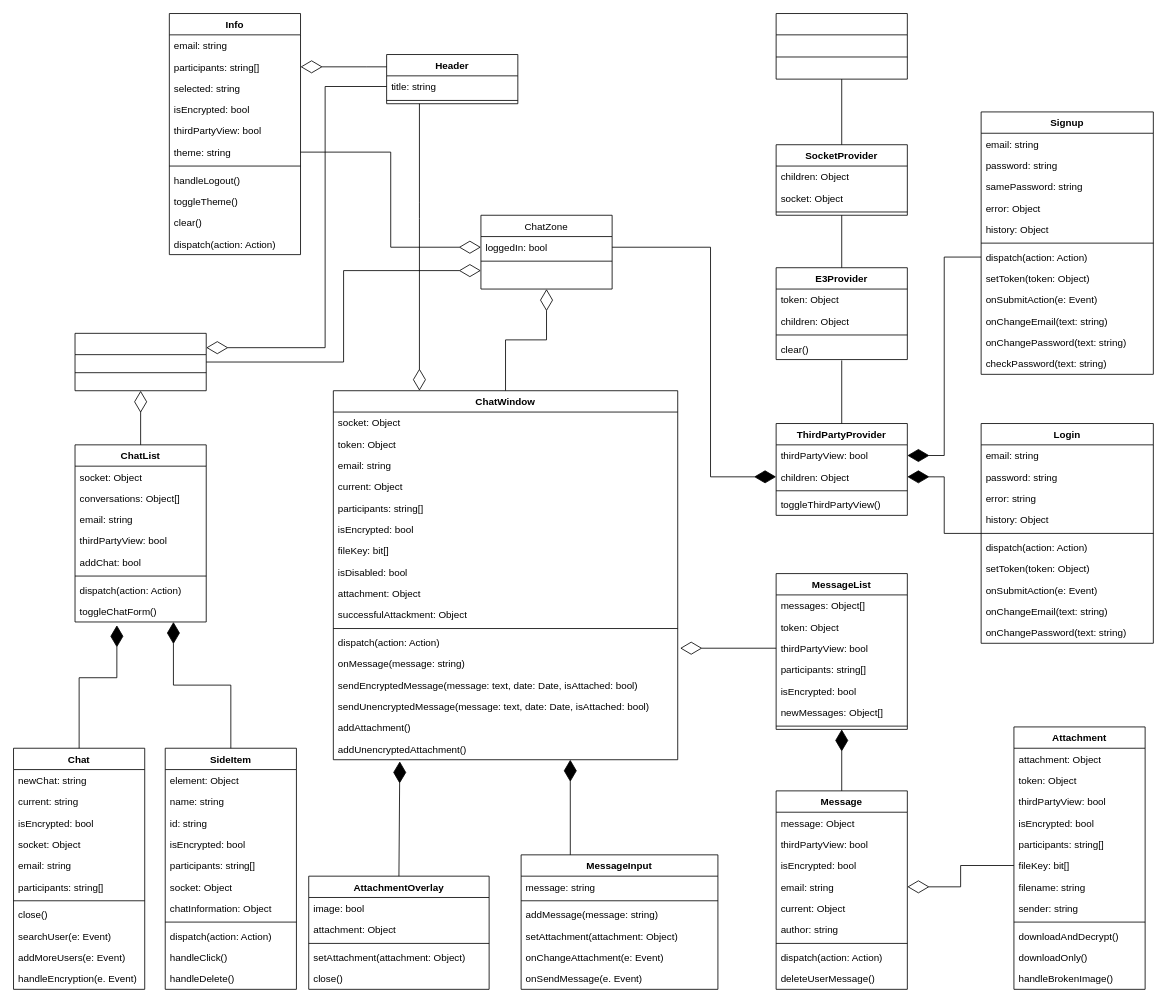
Some shapes in this 1167 by 1003 pixel diagram are drawn without their labels. The shapes that lost their labels are listed below. From the top down, each one's centre as x and y in pixels, then its label:
(x=841, y=46): App
(x=140, y=362): SidePanel
